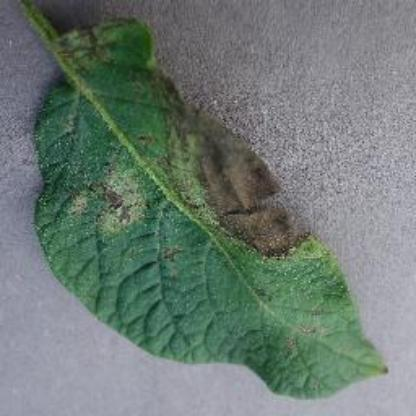Late-Blight: (15, 7, 400, 405)
